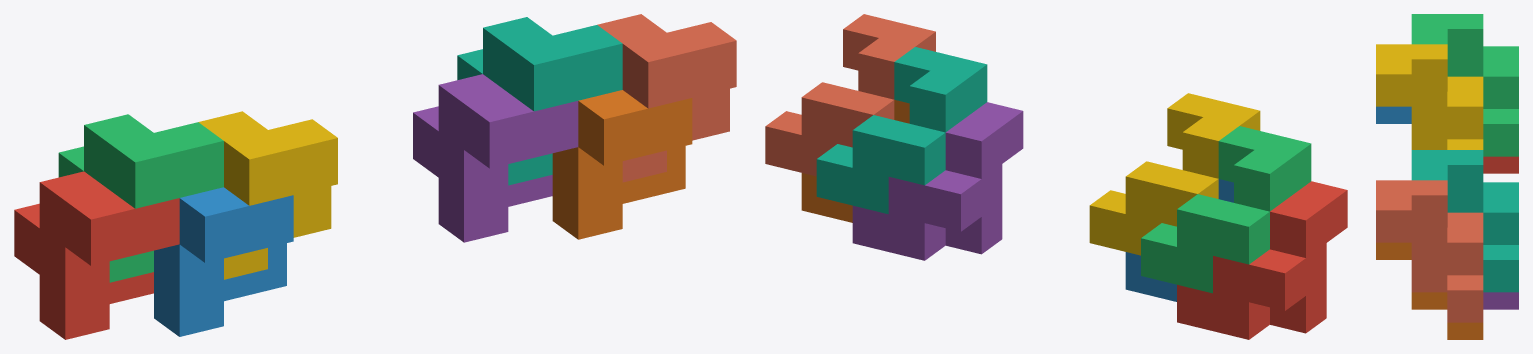
The model's file is tiling.obj.
3 renders of one model, left to right at view 1: azimuth 30°, elevation 25°; view 2: azimuth 150°, elevation 25°; view 3: azimuth 270°, elevation 25°, orthographic. The views are drawn at different scales.
Visible parts, largest first — view 1: copy_1_domain_1, copy_1_domain_5, copy_1_domain_6, copy_1_domain_2, copy_1_domain_3, copy_1_domain_7, copy_1_domain_8, copy_1_domain_4; view 2: copy_1_domain_5, copy_1_domain_1, copy_1_domain_7, copy_1_domain_3, copy_1_domain_4, copy_1_domain_8, copy_1_domain_2, copy_1_domain_6; view 3: copy_1_domain_8, copy_1_domain_4, copy_1_domain_3, copy_1_domain_7, copy_1_domain_6, copy_1_domain_1, copy_1_domain_2, copy_1_domain_5.
Boxes of the visible parts, x1,y1,x2,y2 form: copy_1_domain_1: (14,171,179,339); copy_1_domain_5: (413,74,578,242); copy_1_domain_6: (552,90,692,239); copy_1_domain_2: (154,187,293,336); copy_1_domain_3: (58,114,223,282); copy_1_domain_7: (457,17,622,185); copy_1_domain_8: (597,14,736,182); copy_1_domain_4: (198,111,337,279); copy_1_domain_5: (852,102,1023,260); copy_1_domain_1: (1177,181,1347,339); copy_1_domain_7: (816,47,987,214); copy_1_domain_3: (1141,126,1311,293); copy_1_domain_4: (1089,93,1260,255); copy_1_domain_8: (765,14,935,176); copy_1_domain_2: (1125,179,1233,301); copy_1_domain_6: (801,100,909,222); copy_1_domain_8: (1376,180,1483,322); copy_1_domain_4: (1376,44,1483,149); copy_1_domain_3: (1411,14,1518,156); copy_1_domain_7: (1411,150,1518,292); copy_1_domain_6: (1376,242,1483,339); copy_1_domain_1: (1483,156,1518,173); copy_1_domain_2: (1376,106,1411,123); copy_1_domain_5: (1483,292,1518,309).
Size of the model in its own units: 15 by 4 by 4.
